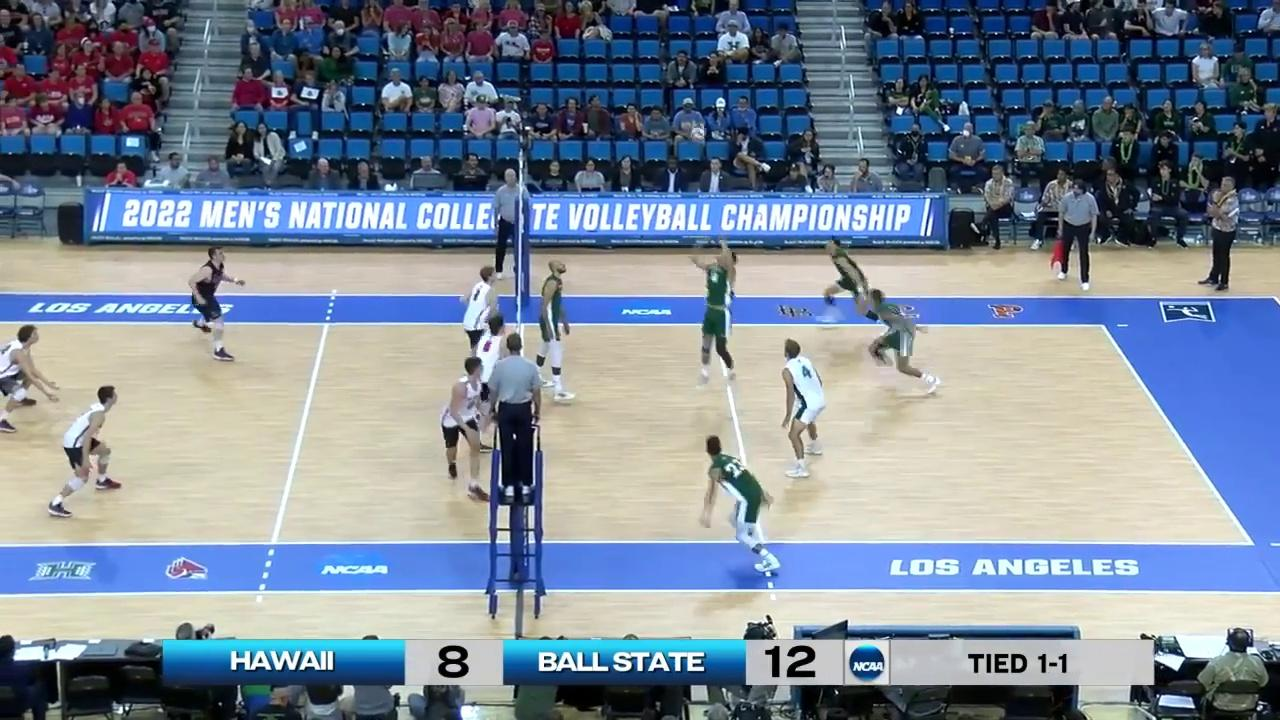player: (700, 436, 780, 581), (49, 386, 123, 515), (855, 283, 939, 395), (441, 358, 494, 503), (779, 339, 827, 475), (0, 326, 60, 434), (189, 245, 241, 364), (693, 240, 736, 382), (823, 236, 880, 334), (461, 267, 502, 384), (538, 263, 572, 403), (474, 317, 508, 453)
refree: (490, 334, 539, 504), (1053, 182, 1100, 290), (494, 169, 530, 276)
